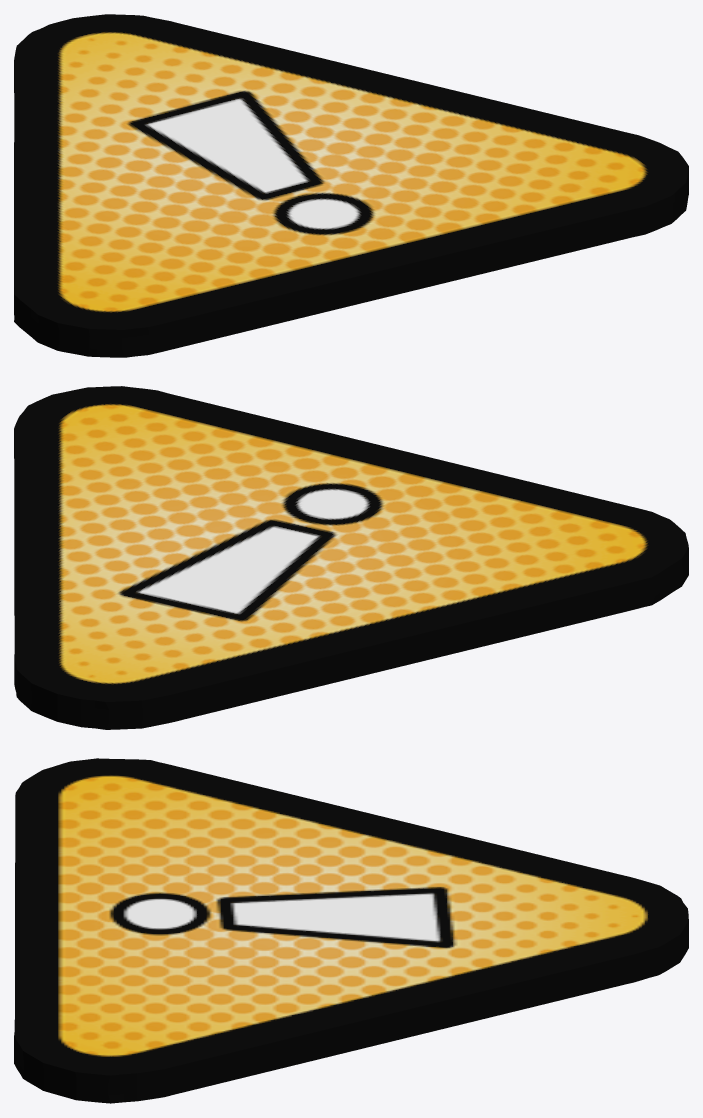
The model's file is CrisisToken.fbx.
3 renders of one model, top to bottom at view 1: azimuth 30°, elevation 25°; view 2: azimuth 150°, elevation 25°; view 3: azimuth 270°, elevation 25°, orthographic.
Parts seen in each view (by area): view 1: CrisisToken; view 2: CrisisToken; view 3: CrisisToken.
Part boxes in pixels (x1,y1,x2,y2): CrisisToken: (14, 14, 688, 357); CrisisToken: (14, 386, 688, 729); CrisisToken: (14, 758, 688, 1103).
Size of the model in its own units: 9.72 by 0.4 by 8.74.
